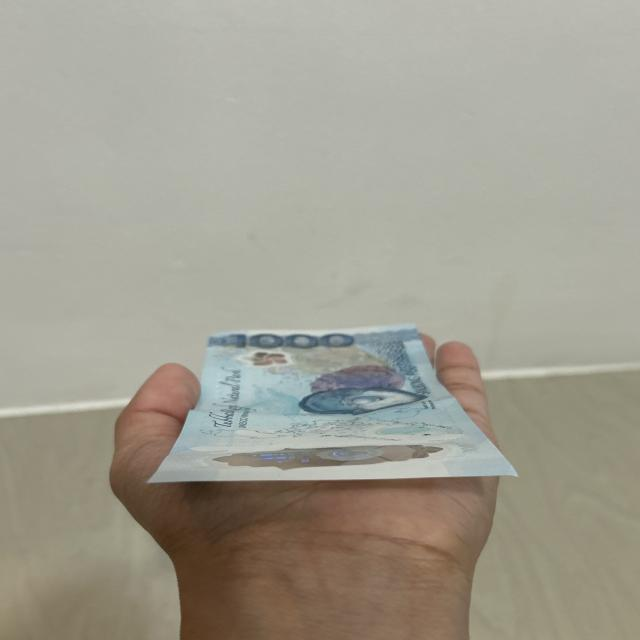clear_window: (180, 439, 457, 465)
sampaguita: (237, 348, 296, 372)
